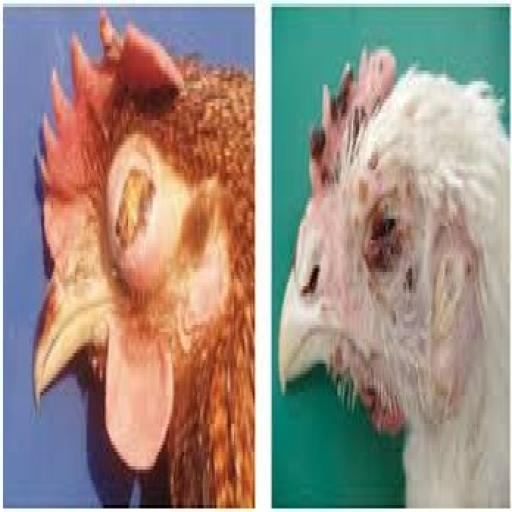disease: (290, 45, 424, 184), (331, 145, 434, 313), (38, 0, 177, 117), (318, 304, 412, 470), (91, 144, 199, 272)
